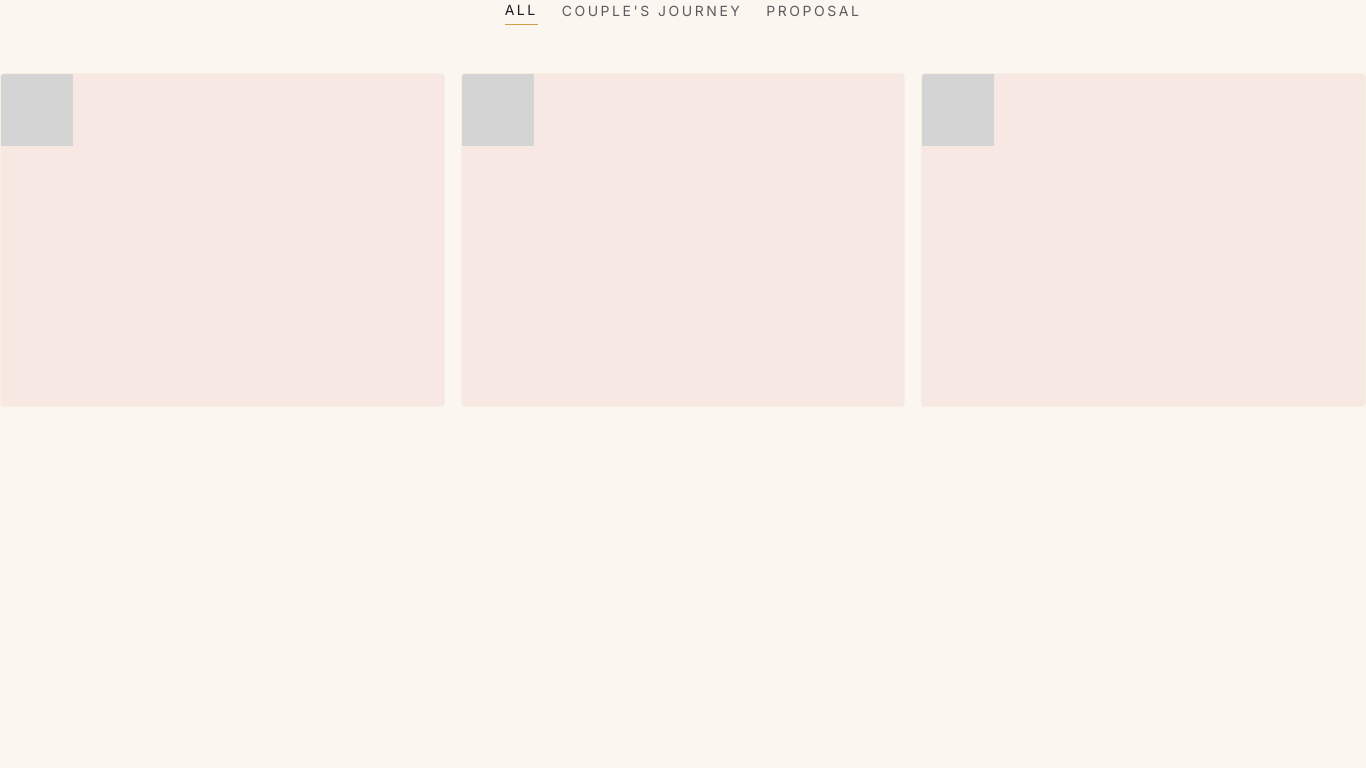
Test: GalleryGrid › opens lightbox when an image button is clicked
This screenshot has width=1366, height=768.
Click the button named "Photo 1".
click(222, 240)  # box top-left (0, 73), bottom-right (445, 407)
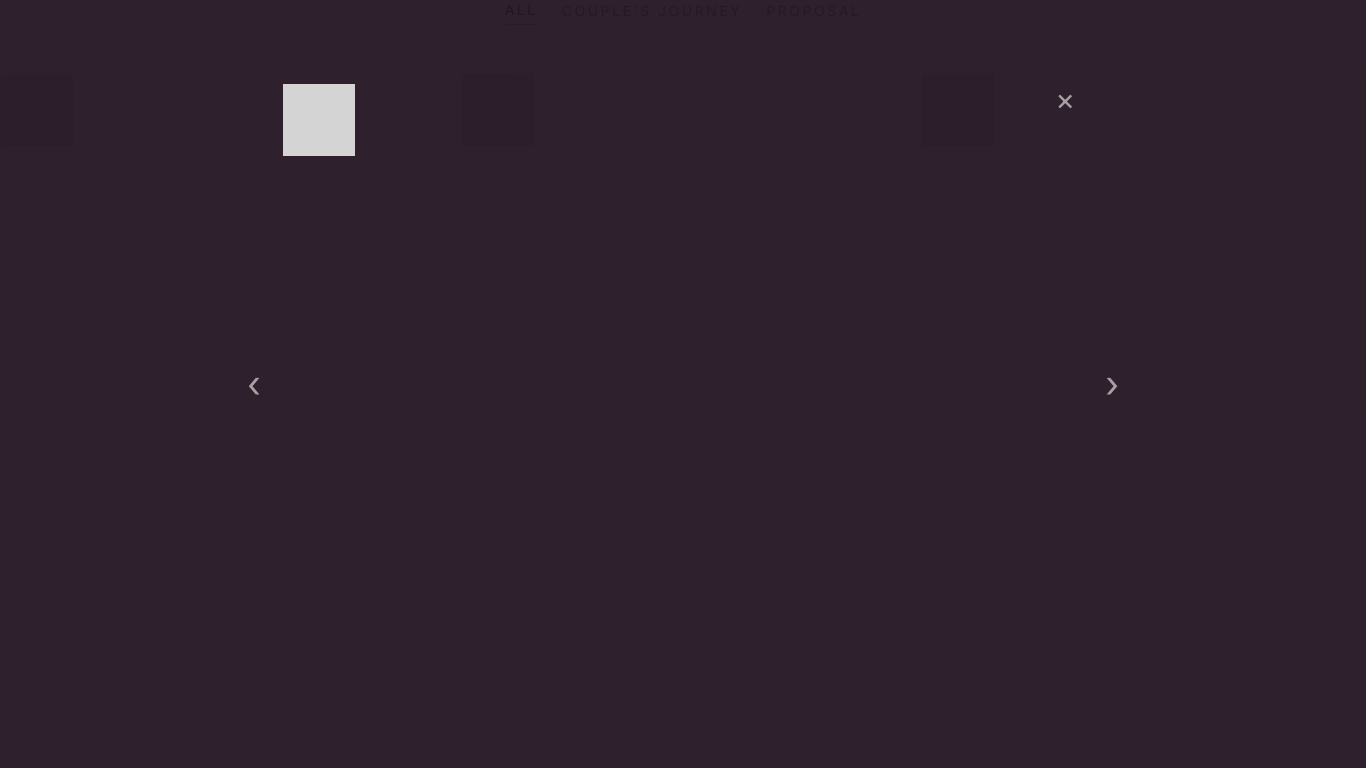
Result: the dialog is shown
